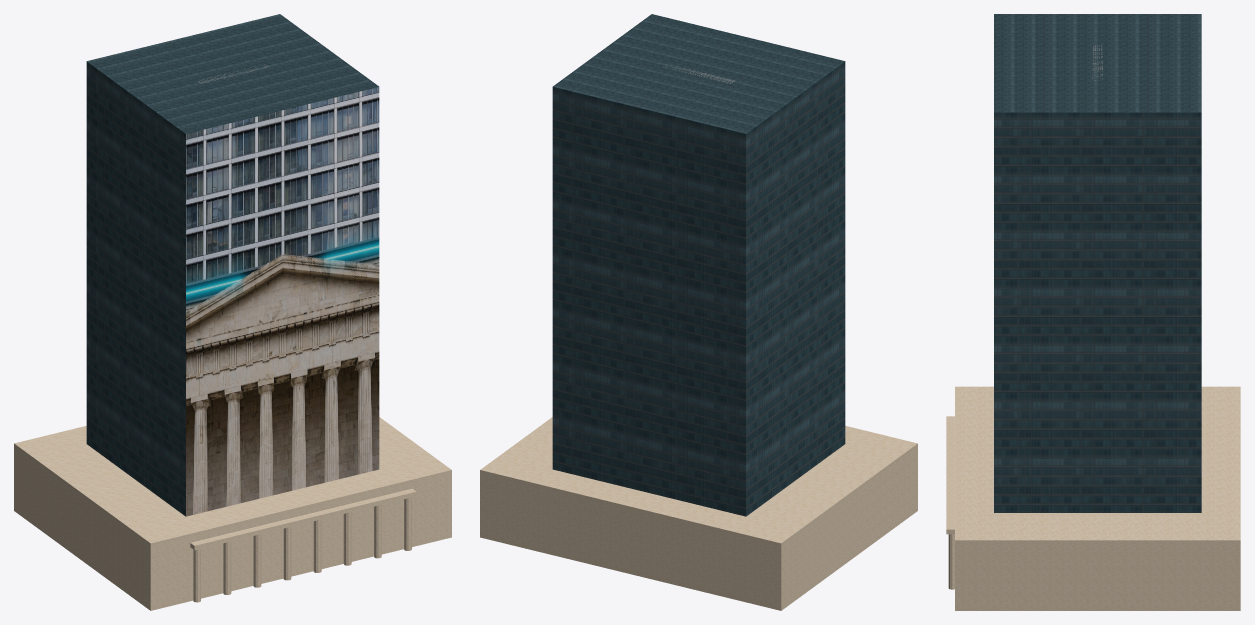
Rendered from parthenon-casino_lod0.gltf.
The picture shows the model from 3 angles, left to right: view 1: azimuth 30°, elevation 25°; view 2: azimuth 150°, elevation 25°; view 3: azimuth 270°, elevation 25°; orthographic projection. The views are drawn at different scales.
Parts seen in each view (by area): view 1: parthenon-casino_front, parthenon-casino_tier1, parthenon-casino_tier0, parthenon-casino_colonnade; view 2: parthenon-casino_tier1, parthenon-casino_tier0; view 3: parthenon-casino_tier1, parthenon-casino_tier0, parthenon-casino_colonnade.
Part boxes in pixels (left/top/right/bottom): parthenon-casino_front: left=186, top=87, right=379, bottom=516; parthenon-casino_tier1: left=86, top=14, right=378, bottom=516; parthenon-casino_tier0: left=14, top=417, right=451, bottom=610; parthenon-casino_colonnade: left=190, top=488, right=416, bottom=602; parthenon-casino_tier1: left=552, top=14, right=845, bottom=516; parthenon-casino_tier0: left=480, top=417, right=917, bottom=610; parthenon-casino_tier1: left=994, top=14, right=1201, bottom=512; parthenon-casino_tier0: left=955, top=386, right=1240, bottom=610; parthenon-casino_colonnade: left=946, top=416, right=954, bottom=589.
Size of the model in its own units: 70 by 100 by 56.7.
